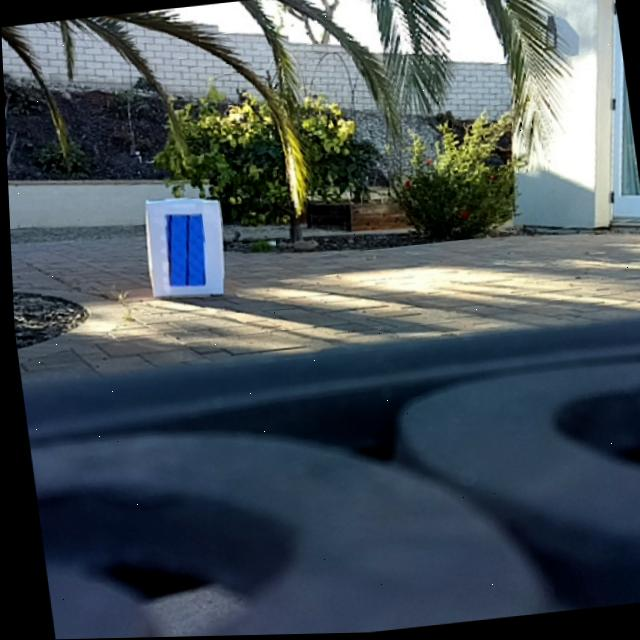led: (160, 213, 206, 289)
